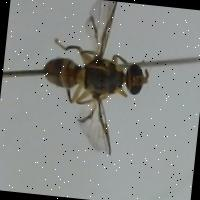Oriental-fruit-fly: (26, 0, 165, 174)
